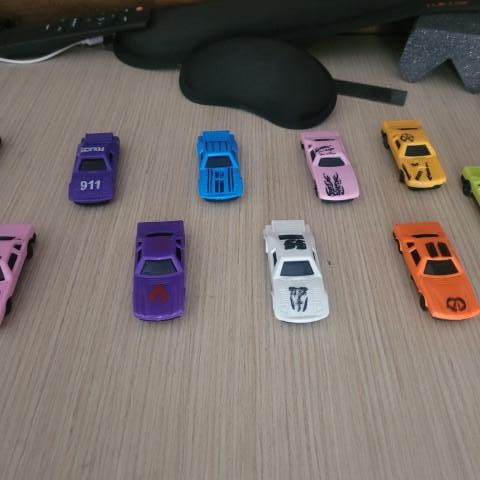car: (391, 216, 480, 324), (253, 217, 334, 329), (131, 218, 192, 329), (375, 112, 447, 193), (298, 125, 364, 207), (193, 124, 251, 203), (65, 129, 120, 205)
